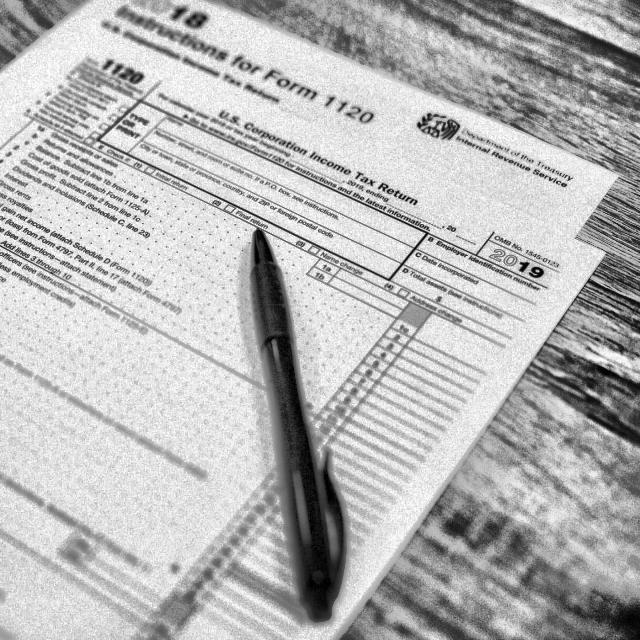Pen: (242, 217, 386, 636)
